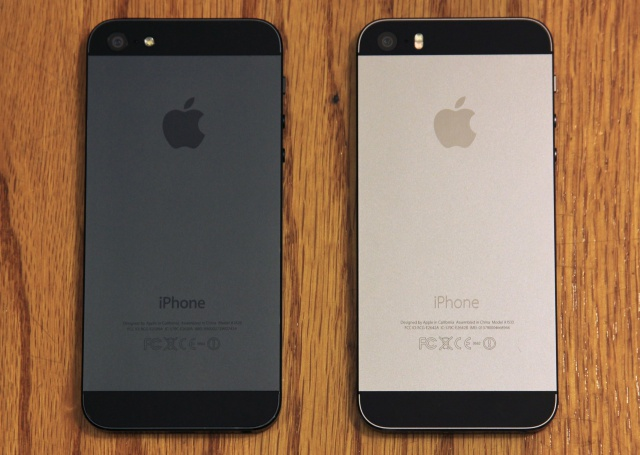apple: (156, 92, 227, 151), (425, 94, 492, 147)
